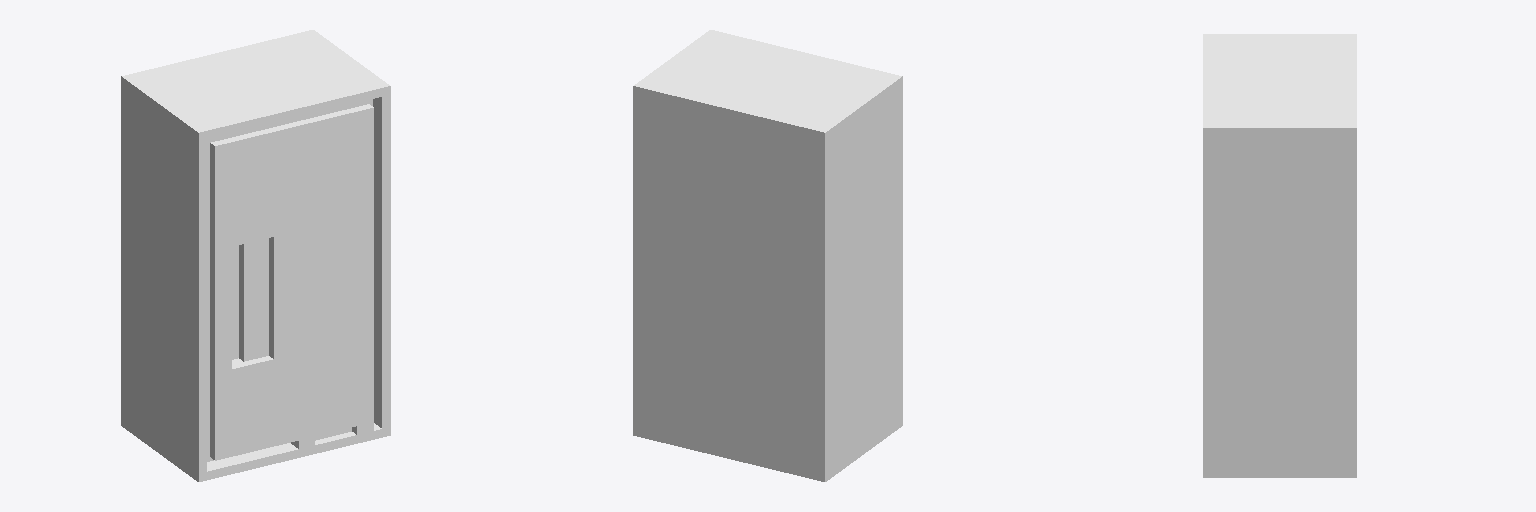
The model's file is syoukakioki.obj.
The picture shows the model from 3 angles: view 1: azimuth 30°, elevation 25°; view 2: azimuth 150°, elevation 25°; view 3: azimuth 270°, elevation 25°; orthographic projection.
Parts seen in each view (by area): view 1: object 1; view 2: object 1; view 3: object 1.
Boxes of the visible parts, x1=… form: object 1: x1=121, y1=30, x2=390, y2=481; object 1: x1=633, y1=30, x2=902, y2=481; object 1: x1=1203, y1=34, x2=1356, y2=477.
Size of the model in its own units: 2.3 by 4 by 1.6.